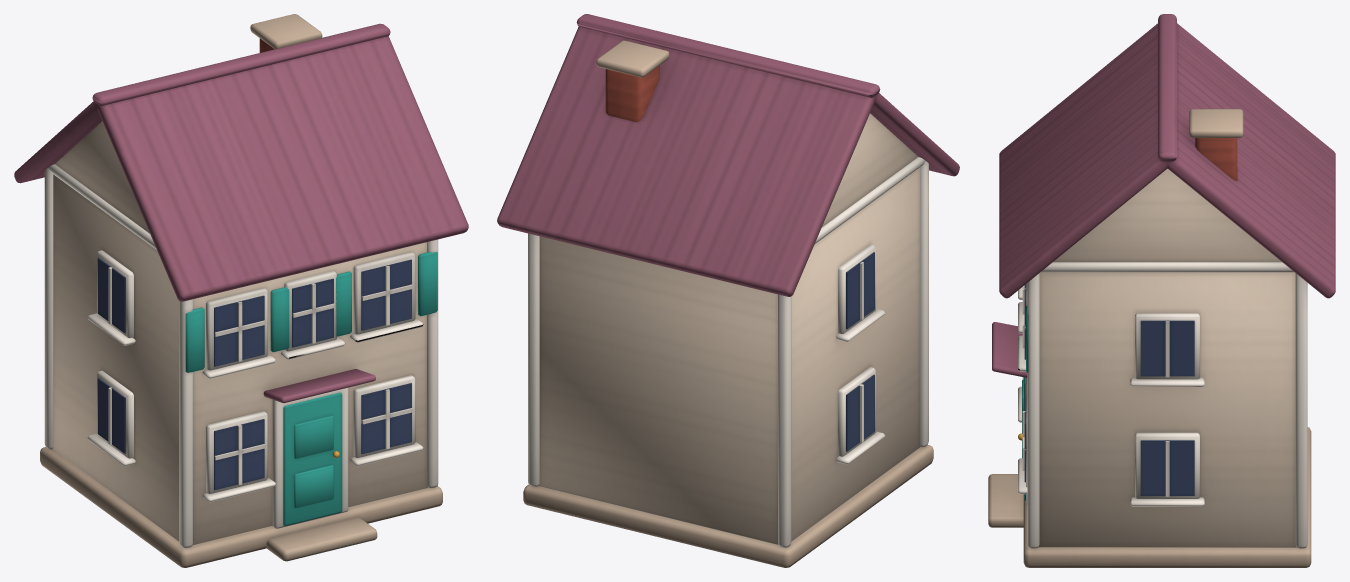
Rendered from StartKit_HouseB_Cream.fbx.
3 views of the same model, side by side, from view 1: azimuth 30°, elevation 25°; view 2: azimuth 150°, elevation 25°; view 3: azimuth 270°, elevation 25° (orthographic). The views are drawn at different scales.
Parts seen in each view (by area): view 1: HouseB_Cream; view 2: HouseB_Cream; view 3: HouseB_Cream.
Boxes of the visible parts, box(x1,y1,x2,y2) form: HouseB_Cream: box(14, 14, 468, 567); HouseB_Cream: box(497, 14, 959, 567); HouseB_Cream: box(988, 14, 1335, 567).
Size of the model in its own units: 4.96 by 6.9 by 5.14.
Materials: 1 (1 with a texture image).
